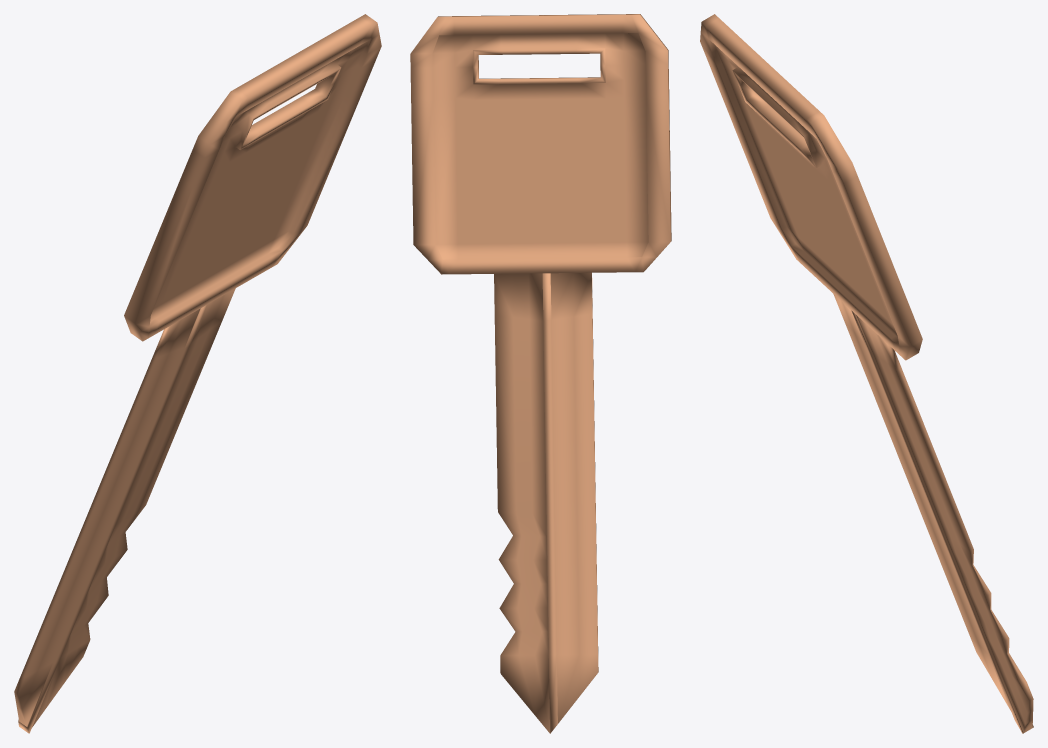
3 renders of one model, left to right at view 1: azimuth 30°, elevation 25°; view 2: azimuth 150°, elevation 25°; view 3: azimuth 270°, elevation 25°, orthographic. The views are drawn at different scales.
Visible parts, largest first — view 1: Key 1.003; view 2: Key 1.003; view 3: Key 1.003.
Boxes of the visible parts, x1,y1,x2,y2 form: Key 1.003: (14, 14, 381, 733); Key 1.003: (410, 14, 671, 733); Key 1.003: (700, 14, 1033, 733).
Size of the model in its own units: 0.5329 by 1.28 by 0.52.
